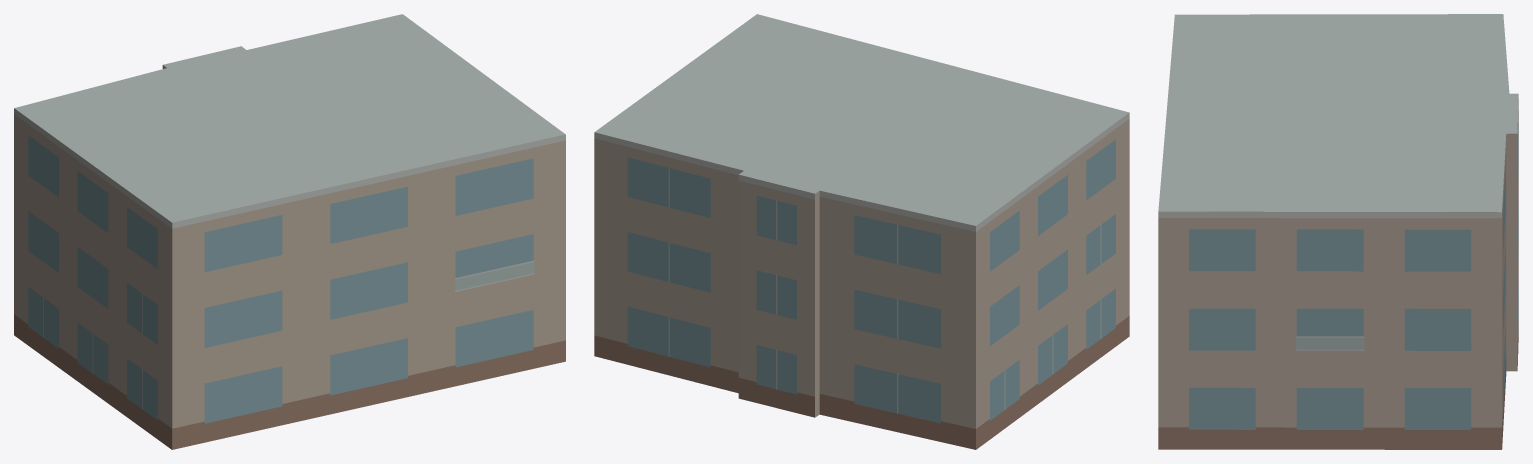
File: survey-upis-32919369.glb
3 views of the same model, side by side, from view 1: azimuth 30°, elevation 25°; view 2: azimuth 150°, elevation 25°; view 3: azimuth 270°, elevation 25° (orthographic). The views are drawn at different scales.
Visible parts, largest first — view 1: survey-upis-32919369.tmp; view 2: survey-upis-32919369.tmp; view 3: survey-upis-32919369.tmp.
Boxes of the visible parts, bbox=[...] form: survey-upis-32919369.tmp: bbox=[14, 14, 565, 449]; survey-upis-32919369.tmp: bbox=[594, 14, 1129, 449]; survey-upis-32919369.tmp: bbox=[1158, 14, 1518, 449].
Size of the model in its own units: 16.38 by 9.15 by 12.58.
